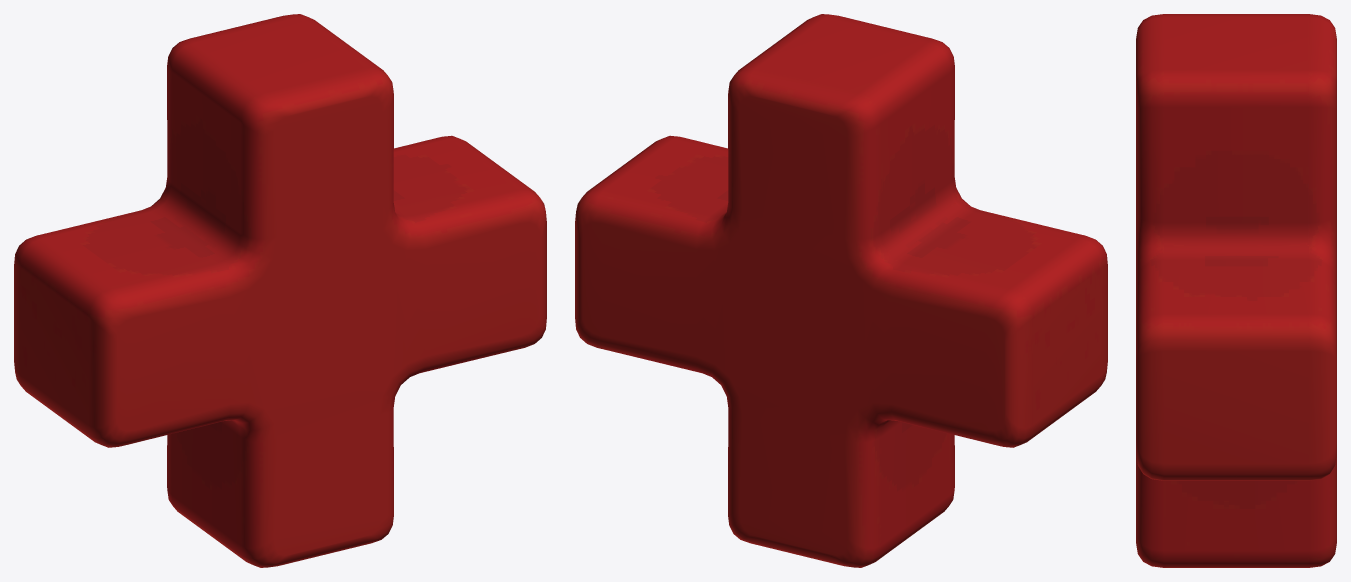
Rendered from plus.fbx.
3 views of the same model, side by side, from view 1: azimuth 30°, elevation 25°; view 2: azimuth 150°, elevation 25°; view 3: azimuth 270°, elevation 25° (orthographic). The views are drawn at different scales.
Visible parts, largest first — view 1: node_id81; view 2: node_id81; view 3: node_id81.
Boxes of the visible parts, x1,y1,x2,y2 form: node_id81: [14, 14, 546, 567]; node_id81: [575, 14, 1107, 567]; node_id81: [1136, 14, 1336, 567].
Bounding box in the file's own units: 0.512 × 0.5099 × 0.1877.
1 material, 1 textured.
